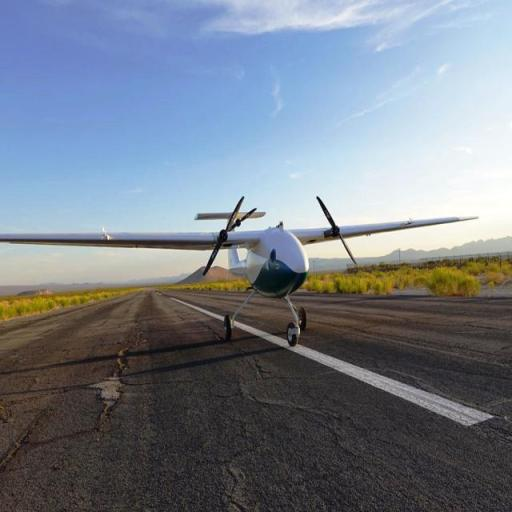uav: (2, 188, 484, 348)
